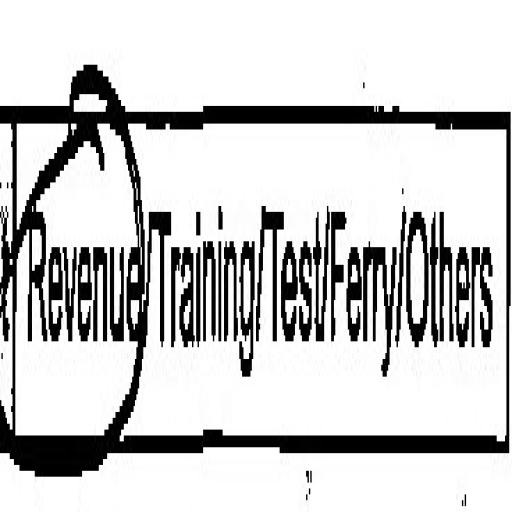check: (11, 0, 147, 512)
